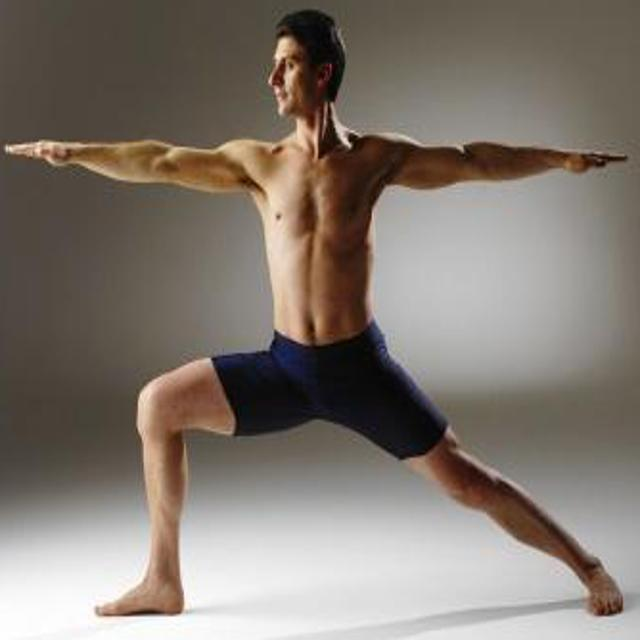Warrior_II: (6, 1, 625, 617)
